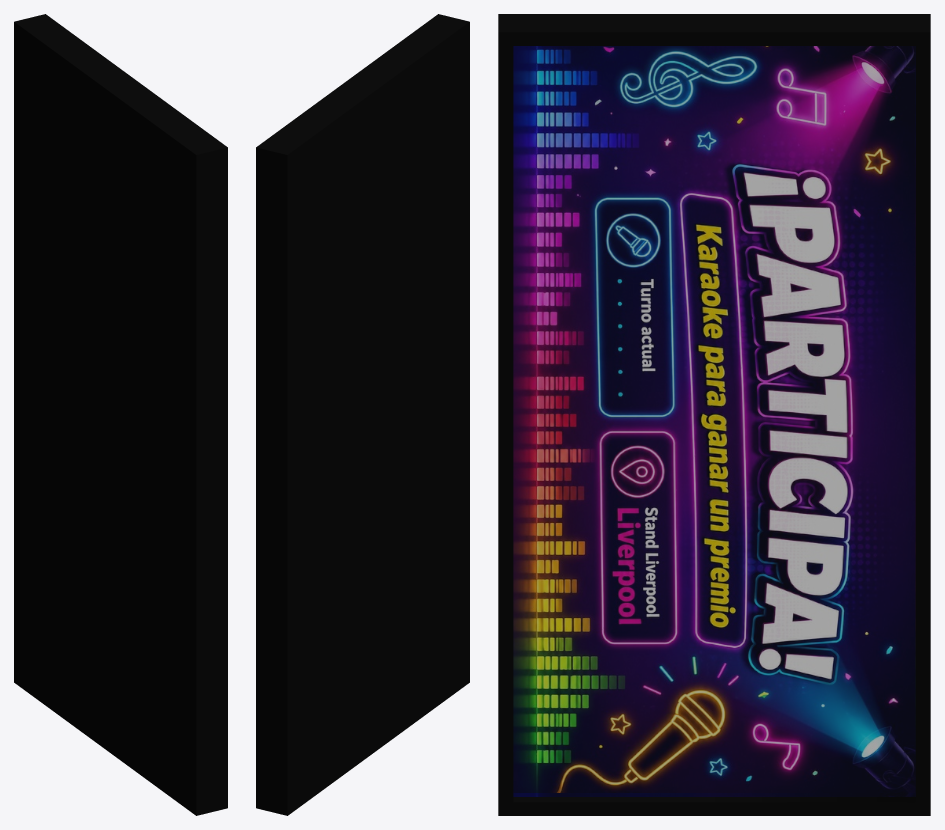
Rendered from PantallaKaraoke1.obj.
3 renders of one model, left to right at view 1: azimuth 30°, elevation 25°; view 2: azimuth 150°, elevation 25°; view 3: azimuth 270°, elevation 25°, orthographic. The views are drawn at different scales.
Visible parts, largest first — view 1: ColumDerS1.001; view 2: ColumDerS1.001; view 3: ColumDerS1.001.
Part boxes in pixels (<box>): ColumDerS1.001: <box>14,14,227,815</box>; ColumDerS1.001: <box>256,14,469,815</box>; ColumDerS1.001: <box>498,14,930,815</box>.
Size of the model in its own units: 0.2 by 4 by 2.
